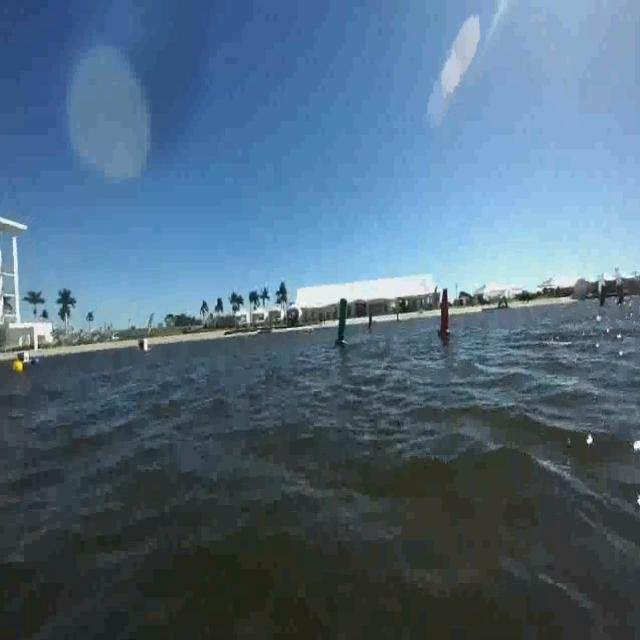green-column-buoy: (336, 298, 353, 350)
red-column-buoy: (438, 288, 454, 340)
yellow-duck: (12, 357, 23, 374)
